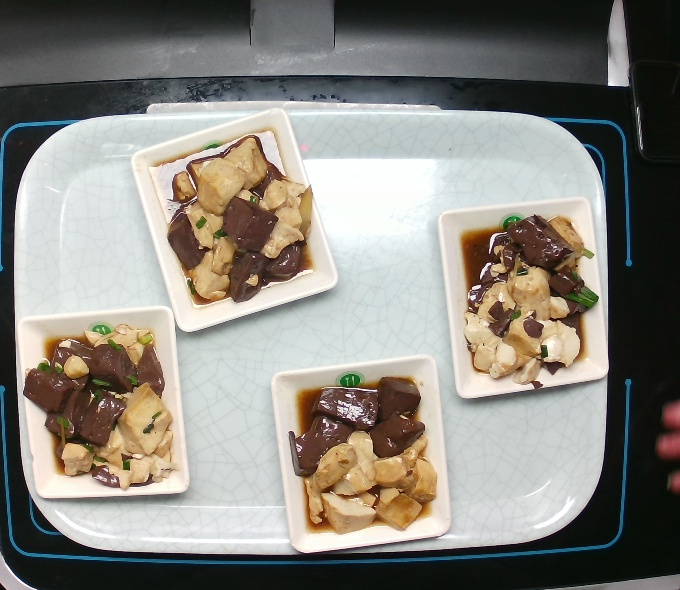wcq-DouFuMiuXue: (143, 124, 323, 310), (284, 372, 442, 537), (460, 210, 600, 386), (29, 323, 176, 490)
